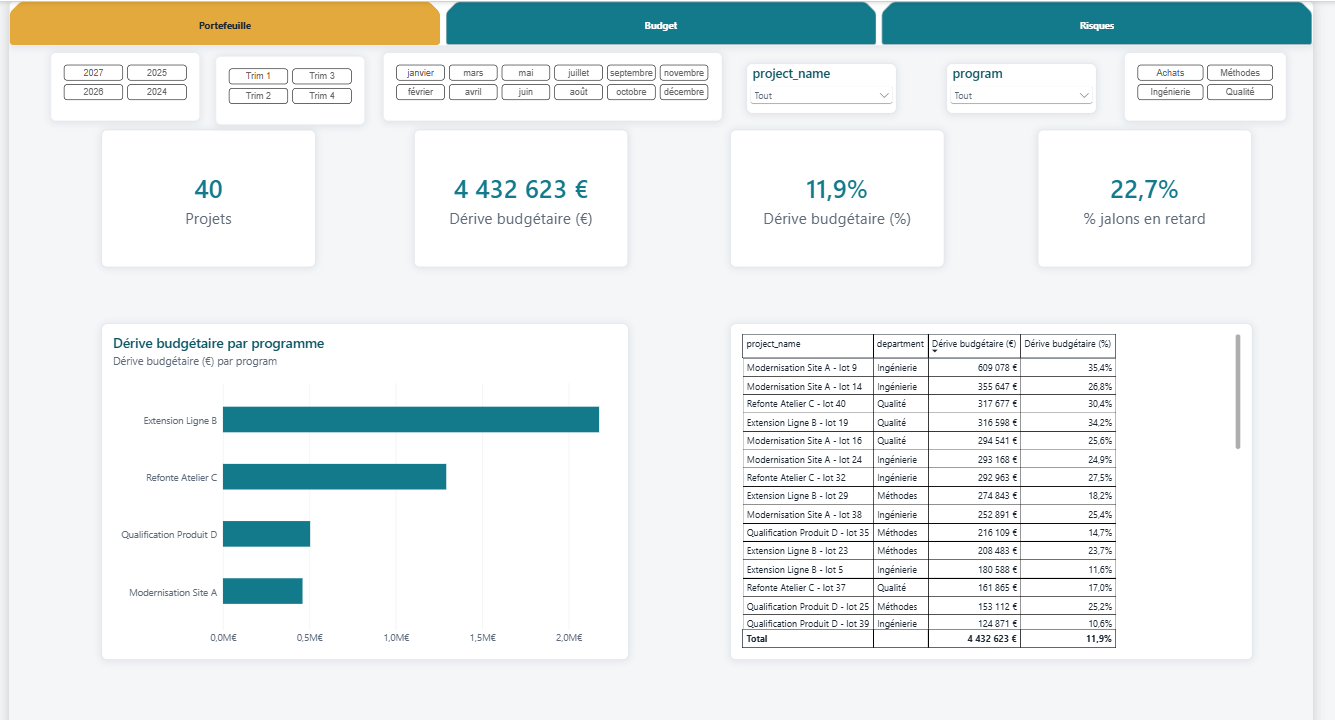

The page's visual inventory and layout, read from the dashboard file:
{"tool":"powerbi","page":{"name":"Portefeuille","canvas":[1280,720],"ordinal":0},"visuals":[{"type":"shape","box":[0,0,1280,48],"z":0},{"type":"textbox","box":[16,2,570,46],"z":100},{"type":"pageNavigator","box":[600,10,664,34],"z":200},{"type":"card","title":"Projets","fields":{"Values":["mart_kpi_project.Nb projets"]},"box":[16,120,303,96],"z":900},{"type":"card","title":"Dérive budgétaire (€)","fields":{"Values":["mart_kpi_project.Dérive budgétaire (€)"]},"box":[331,120,303,96],"z":1000},{"type":"ChicletSlicer1448559807354","fields":{"Category":["fact_budget_lines.month.Variation.Hiérarchie de dates.Année"]},"box":[16,56,139.3,52],"z":1003},{"type":"ChicletSlicer1448559807354","fields":{"Category":["fact_budget_lines.month.Variation.Hiérarchie de dates.Trimestre"]},"box":[167.3,56,183.3,52],"z":1004},{"type":"ChicletSlicer1448559807354","fields":{"Category":["fact_budget_lines.month.Variation.Hiérarchie de dates.Mois"]},"box":[362.7,56,440,52],"z":1005},{"type":"slicer","fields":{"Values":["mart_kpi_project.project_name"]},"box":[814.7,56,124.7,52],"z":1006},{"type":"slicer","fields":{"Values":["mart_kpi_project.program"]},"box":[951.3,56,124.7,52],"z":1007},{"type":"ChicletSlicer1448559807354","fields":{"Category":["mart_kpi_project.department"]},"box":[1088,56,176,52],"z":1008},{"type":"card","title":"Dérive budgétaire (%)","fields":{"Values":["mart_kpi_project.Dérive budgétaire (%)"]},"box":[646,120,303,96],"z":1100},{"type":"card","title":"% jalons en retard","fields":{"Values":["mart_kpi_project.% jalons en retard (moyenne)"]},"box":[961,120,303,96],"z":1200},{"type":"textbox","box":[16,688,1248,30],"z":1500},{"type":"tableEx","fields":{"Values":["mart_kpi_project.project_name","mart_kpi_project.department","mart_kpi_project.Dérive budgétaire (€)","mart_kpi_project.Dérive budgétaire (%)"]},"box":[697.7,228,566.3,452],"z":5013},{"type":"barChart","title":"Dérive budgétaire par programme","fields":{"Category":["mart_kpi_project.program"],"Y":["mart_kpi_project.Dérive budgétaire (€)"]},"box":[16,228,571.4,452],"z":5014}]}

Visuals, with their boxes on the page's 1280x720 design canvas (x1, y1, x2, y2). These are canvas units, not pixel positions in the 1335x720 screenshot, which may show the page scaled, cropped or inside an application window:
shape: 0, 0, 1280, 48
textbox: 16, 2, 586, 48
pageNavigator: 600, 10, 1264, 44
"Projets" card: 16, 120, 319, 216
"Dérive budgétaire (€)" card: 331, 120, 634, 216
ChicletSlicer1448559807354 - fact_budget_lines.month.Variation.Hiérarchie de dates.Année: 16, 56, 155, 108
ChicletSlicer1448559807354 - fact_budget_lines.month.Variation.Hiérarchie de dates.Trimestre: 167, 56, 351, 108
ChicletSlicer1448559807354 - fact_budget_lines.month.Variation.Hiérarchie de dates.Mois: 363, 56, 803, 108
slicer - mart_kpi_project.project_name: 815, 56, 939, 108
slicer - mart_kpi_project.program: 951, 56, 1076, 108
ChicletSlicer1448559807354 - mart_kpi_project.department: 1088, 56, 1264, 108
"Dérive budgétaire (%)" card: 646, 120, 949, 216
"% jalons en retard" card: 961, 120, 1264, 216
textbox: 16, 688, 1264, 718
tableEx - mart_kpi_project.project_name x mart_kpi_project.department: 698, 228, 1264, 680
"Dérive budgétaire par programme" barChart: 16, 228, 587, 680
